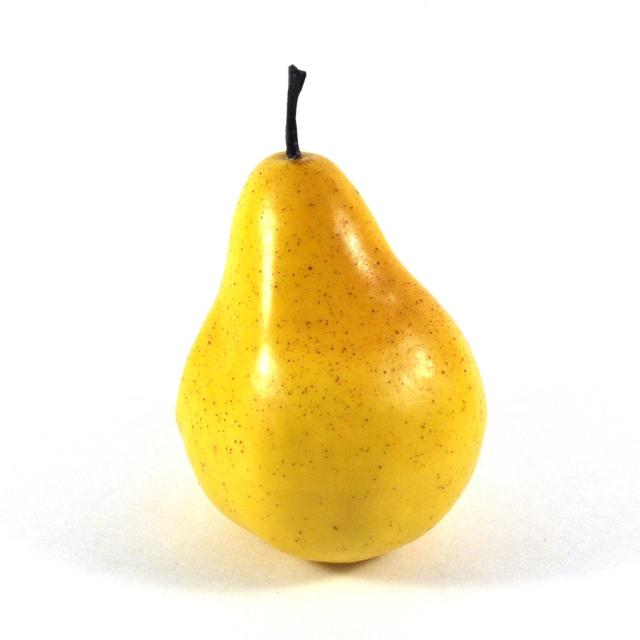pear: (176, 148, 487, 562)
